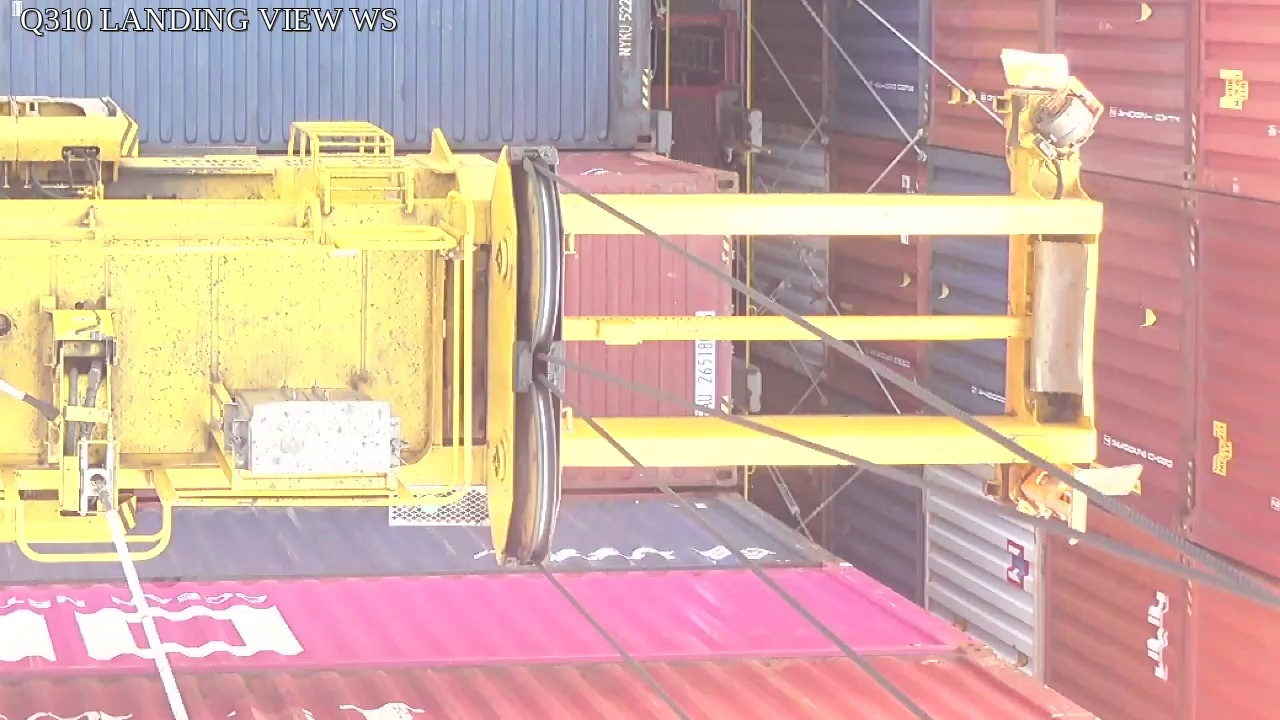right: (488, 143, 569, 570)
